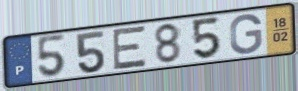5: (190, 14, 224, 61), (74, 29, 107, 75), (36, 33, 67, 81)
8: (153, 22, 185, 66)
E: (112, 24, 149, 72)
G: (228, 13, 264, 56)
